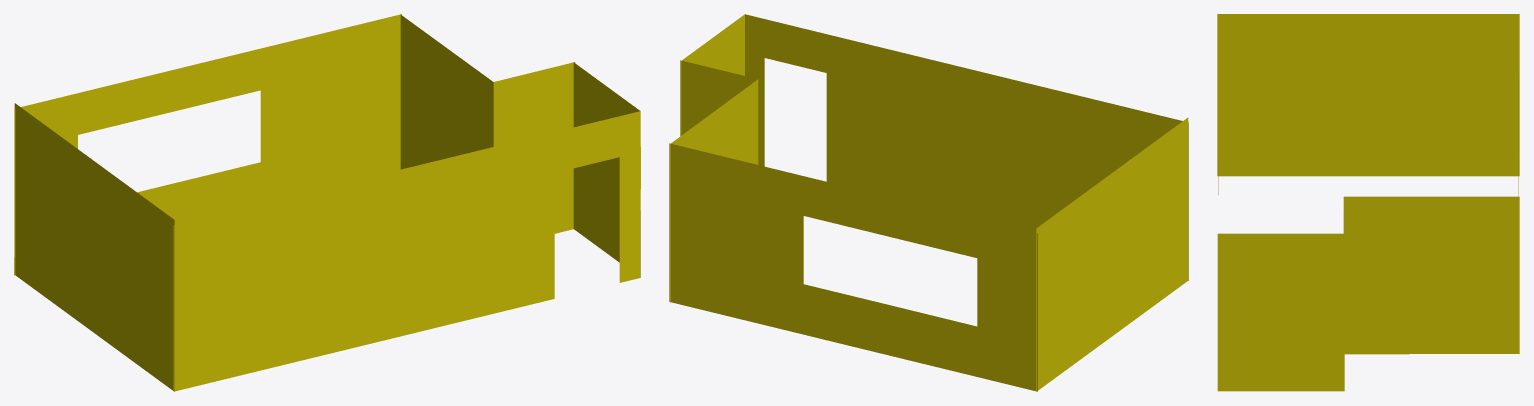
The picture shows the model from 3 angles, left to right: view 1: azimuth 30°, elevation 25°; view 2: azimuth 150°, elevation 25°; view 3: azimuth 270°, elevation 25°; orthographic projection. The views are drawn at different scales.
Visible parts, largest first — view 1: BH05_WP_05; view 2: BH05_WP_05; view 3: BH05_WP_05.
Part boxes in pixels (x1=…): BH05_WP_05: x1=14, y1=14, x2=640, y2=391; BH05_WP_05: x1=669, y1=14, x2=1188, y2=391; BH05_WP_05: x1=1217, y1=14, x2=1519, y2=391.
Size of the model in its own units: 864 by 303 by 511.
